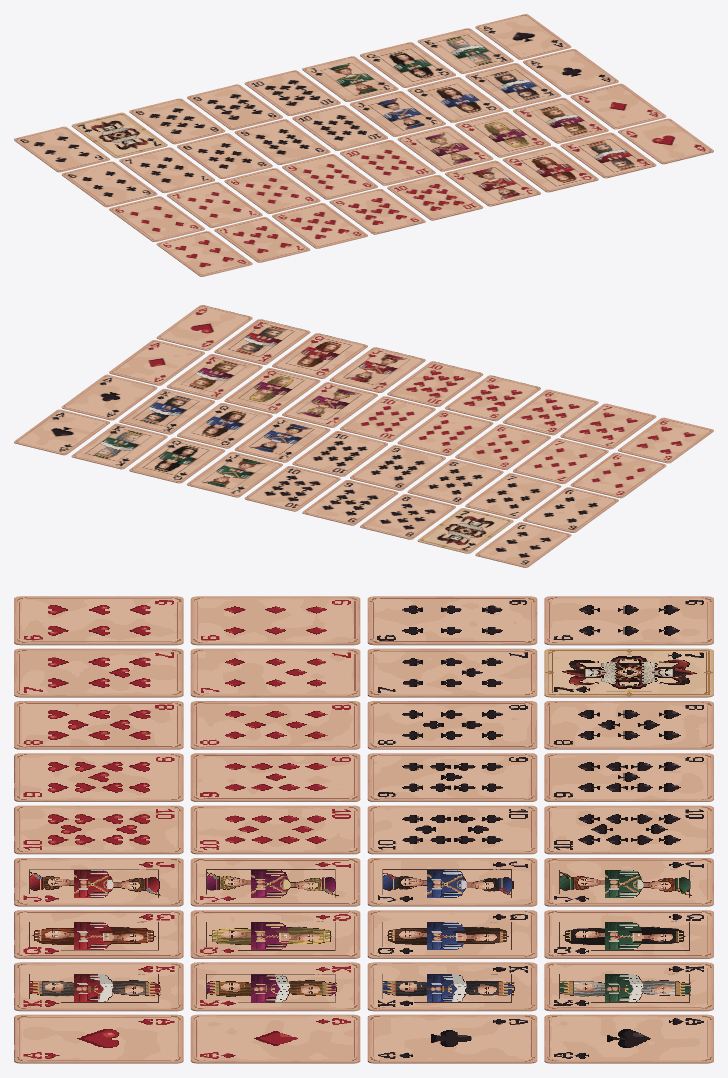
The model's file is cards.glb.
The picture shows the model from 3 angles, top to bottom: view 1: azimuth 30°, elevation 25°; view 2: azimuth 150°, elevation 25°; view 3: azimuth 270°, elevation 25°; orthographic projection. The views are drawn at different scales.
Parts seen in each view (by area): view 1: card_clubs_6, card_clubs_12, card_diamonds_8, card_diamonds_14, card_hearts_12, card_hearts_13, card_hearts_14, card_spades_6, card_spades_7, card_spades_8, card_clubs_8, card_clubs_13 (+24 smaller); view 2: card_clubs_8, card_clubs_14, card_diamonds_6, card_diamonds_12, card_hearts_6, card_hearts_7, card_hearts_8, card_spades_12, card_spades_13, card_spades_14, card_clubs_7, card_clubs_12 (+24 smaller); view 3: card_clubs_6, card_clubs_7, card_clubs_10, card_clubs_13, card_clubs_14, card_diamonds_6, card_diamonds_7, card_diamonds_10, card_diamonds_13, card_diamonds_14, card_hearts_10, card_spades_10 (+24 smaller).
Boxes of the visible parts, x1=… form: card_clubs_6: x1=61, y1=161, x2=157, y2=207; card_clubs_12: x1=407, y1=77, x2=503, y2=122; card_diamonds_8: x1=224, y1=168, x2=320, y2=213; card_diamonds_14: x1=570, y1=83, x2=666, y2=129; card_hearts_12: x1=502, y1=146, x2=598, y2=192; card_hearts_13: x1=560, y1=132, x2=656, y2=178; card_hearts_14: x1=618, y1=118, x2=713, y2=164; card_spades_6: x1=14, y1=126, x2=109, y2=172; card_spades_7: x1=71, y1=112, x2=167, y2=158; card_spades_8: x1=129, y1=98, x2=225, y2=144; card_clubs_8: x1=177, y1=133, x2=272, y2=178; card_clubs_13: x1=465, y1=63, x2=561, y2=108; card_clubs_8: x1=407, y1=459, x2=503, y2=504; card_clubs_14: x1=61, y1=374, x2=157, y2=420; card_diamonds_6: x1=570, y1=452, x2=666, y2=498; card_diamonds_12: x1=224, y1=368, x2=320, y2=413; card_hearts_6: x1=618, y1=417, x2=713, y2=463; card_hearts_7: x1=560, y1=403, x2=656, y2=449; card_hearts_8: x1=502, y1=389, x2=598, y2=435; card_spades_12: x1=129, y1=437, x2=225, y2=483; card_spades_13: x1=71, y1=423, x2=167, y2=469; card_spades_14: x1=14, y1=409, x2=109, y2=455; card_clubs_7: x1=465, y1=473, x2=561, y2=518; card_clubs_12: x1=177, y1=403, x2=272, y2=448; card_clubs_6: x1=367, y1=596, x2=537, y2=645; card_clubs_7: x1=367, y1=648, x2=537, y2=697; card_clubs_10: x1=367, y1=805, x2=537, y2=854; card_clubs_13: x1=367, y1=962, x2=537, y2=1011; card_clubs_14: x1=367, y1=1014, x2=537, y2=1063; card_diamonds_6: x1=190, y1=596, x2=360, y2=645; card_diamonds_7: x1=190, y1=648, x2=360, y2=697; card_diamonds_10: x1=190, y1=805, x2=360, y2=854; card_diamonds_13: x1=190, y1=962, x2=360, y2=1011; card_diamonds_14: x1=190, y1=1014, x2=360, y2=1063; card_hearts_10: x1=14, y1=805, x2=183, y2=854; card_spades_10: x1=544, y1=805, x2=713, y2=854.
Bounding box in the file's own units: 0.624 × 0.0006 × 0.396.
1 material, 1 textured.
